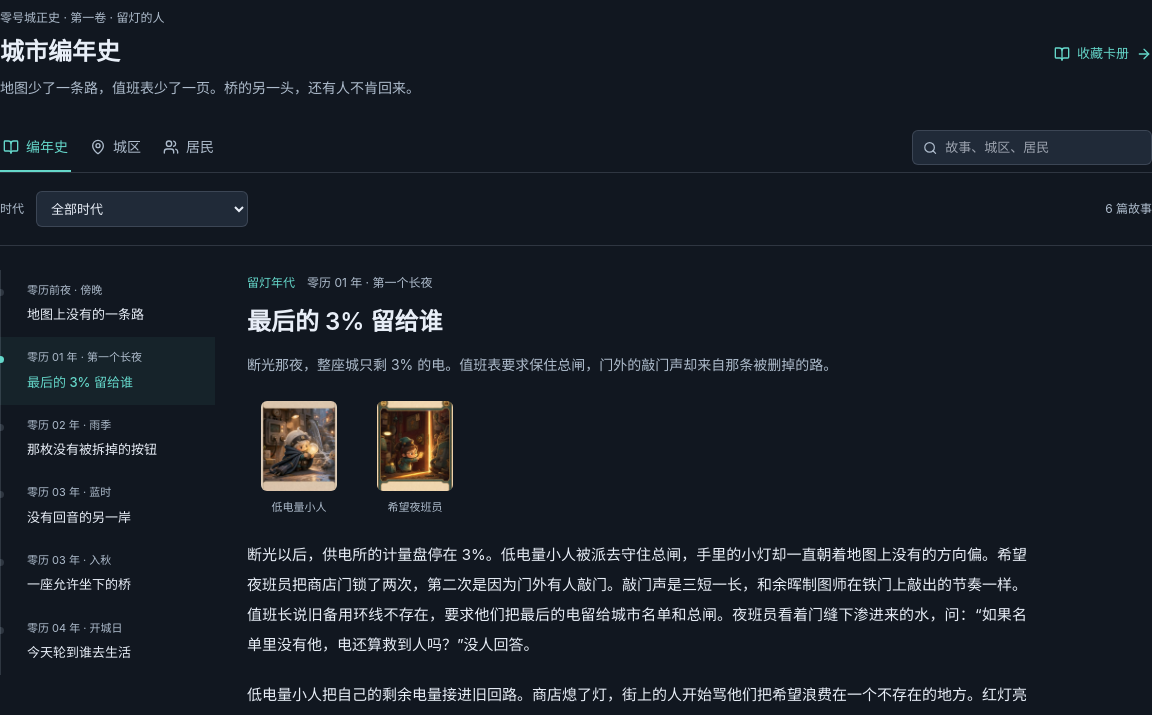
Test case: ZeroCityChronicle › opens real character details, follows a relation, and links the exact card
The image size is (1152, 715).
Click the button "低电量小人".
click(299, 459)  # box [247, 402, 351, 516]
(page scrolled)
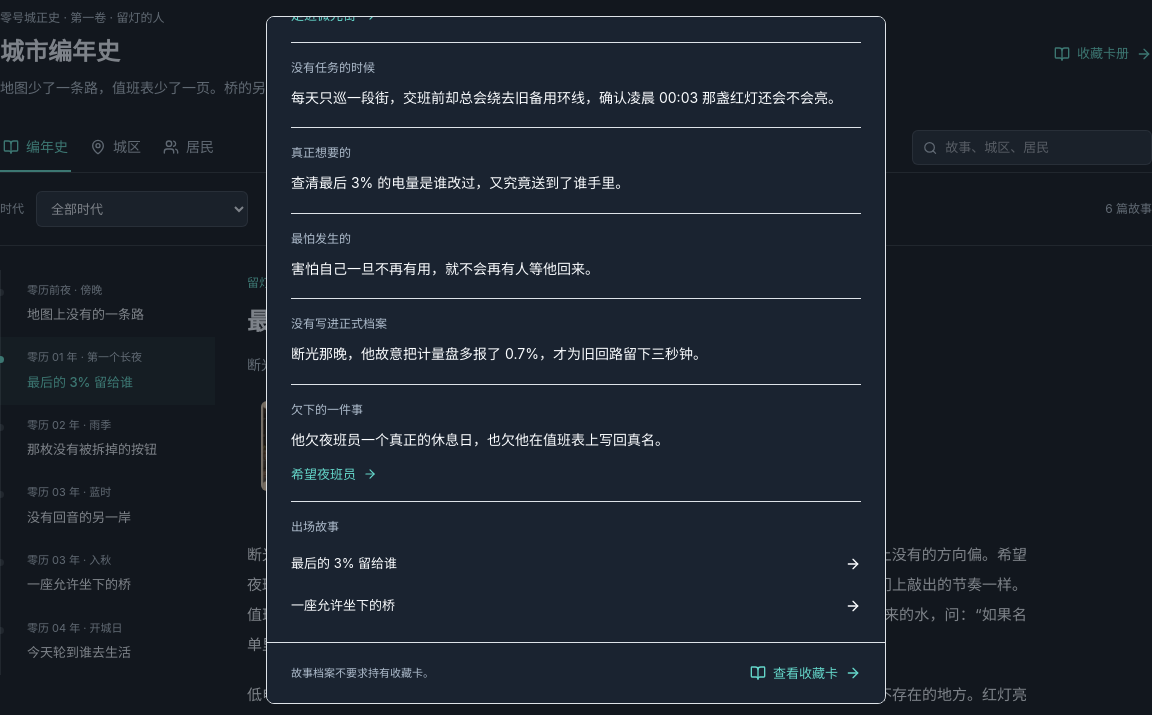
Click the button "希望夜班员".
click(334, 474)  # box [291, 464, 377, 484]
(page scrolled)
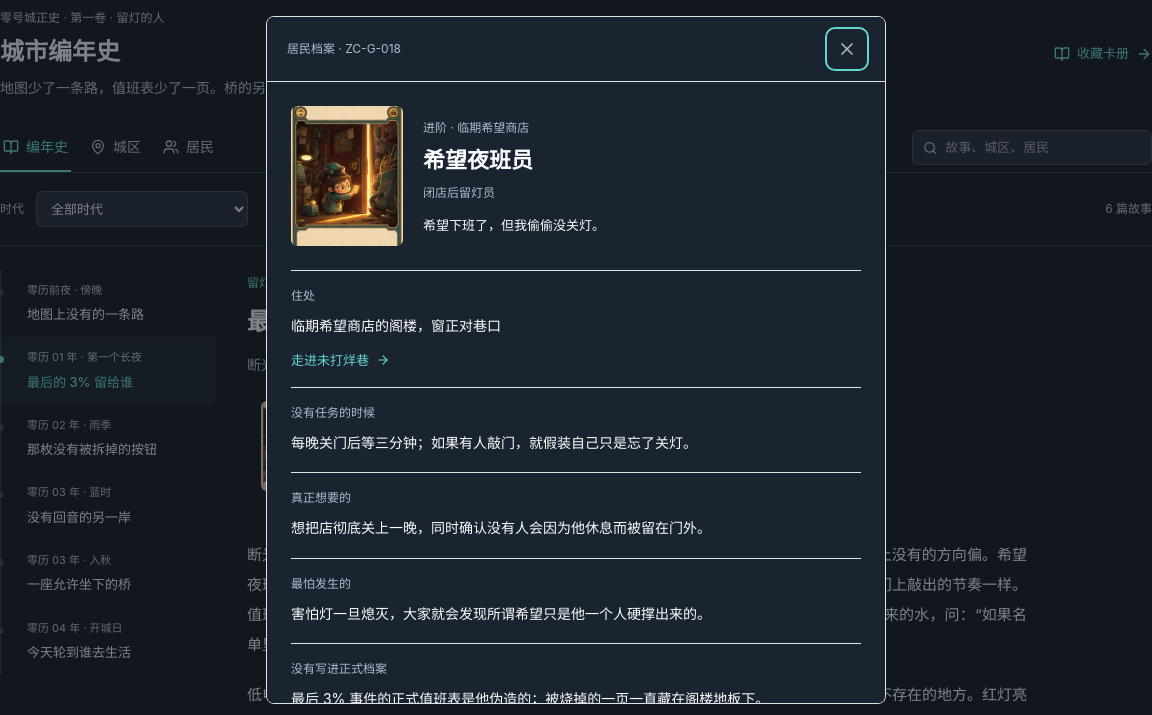
Expected: the heading "希望夜班员" is shown, [423, 147, 533, 173]
Click the button named "关闭居民档案".
click(847, 49)  # box [829, 31, 865, 67]
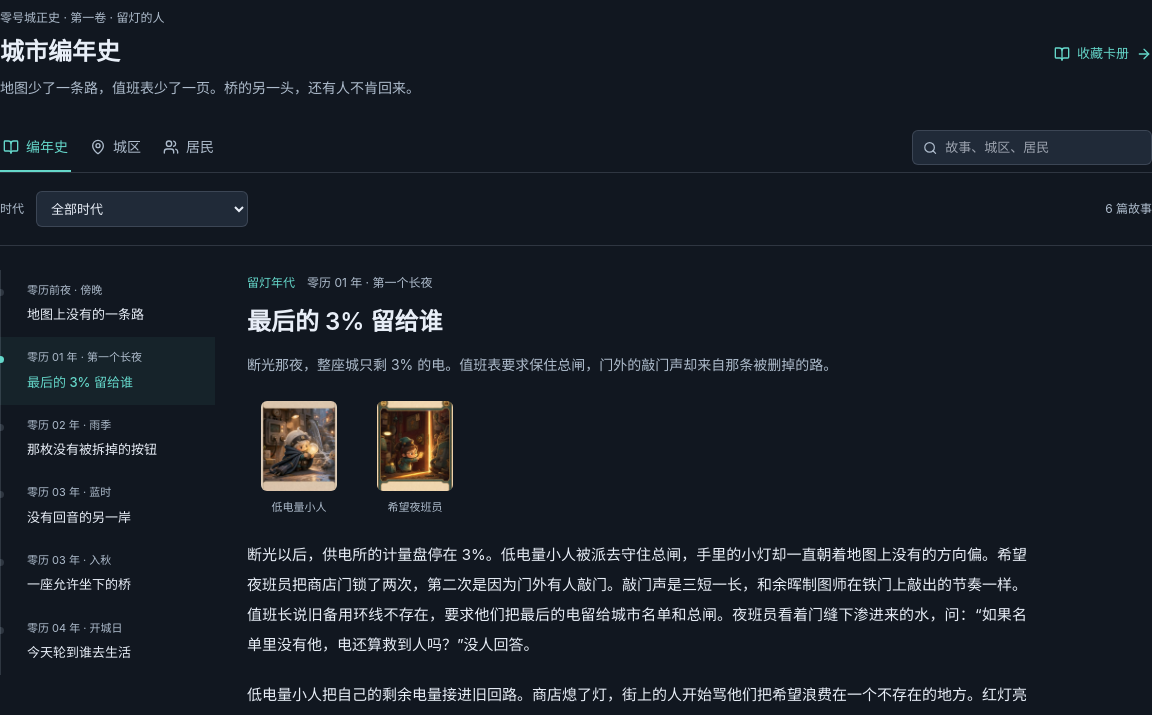
Expected: the dialog is gone
